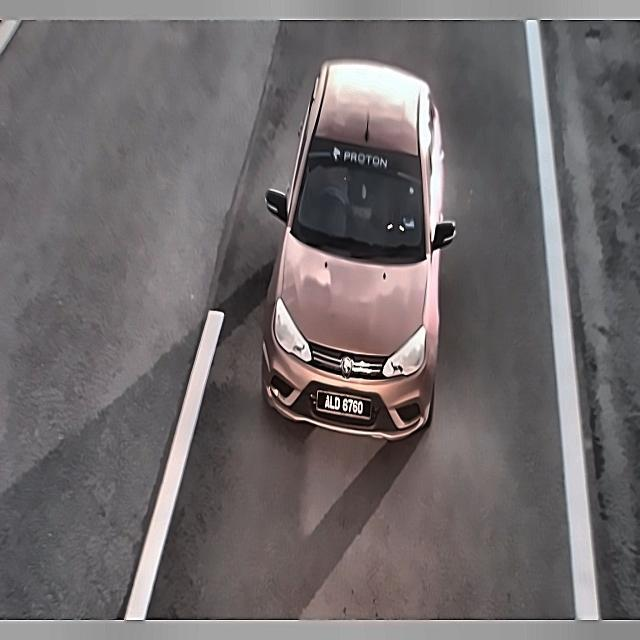car: (312, 385, 376, 428)
